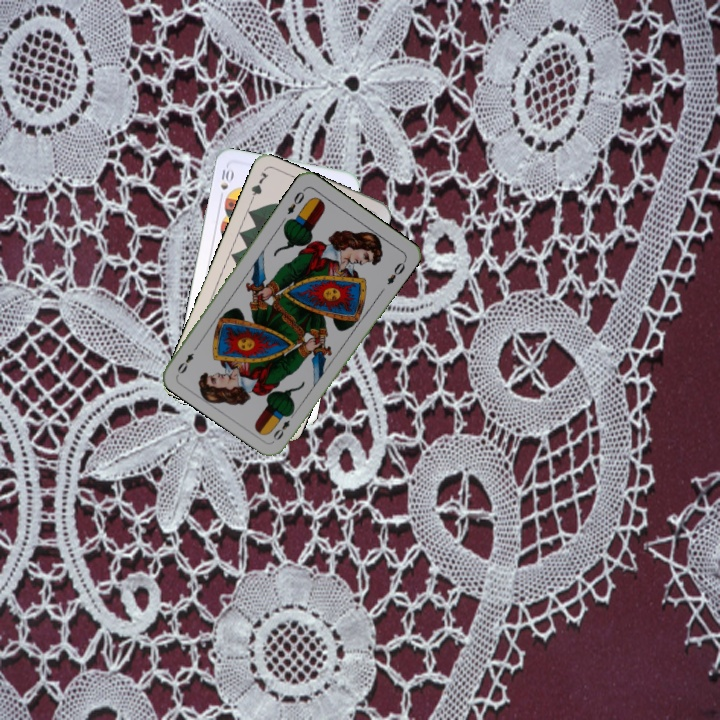EO: (269, 408, 297, 443), (283, 187, 307, 217)
G7: (245, 168, 271, 207)
S10: (216, 165, 235, 203)
